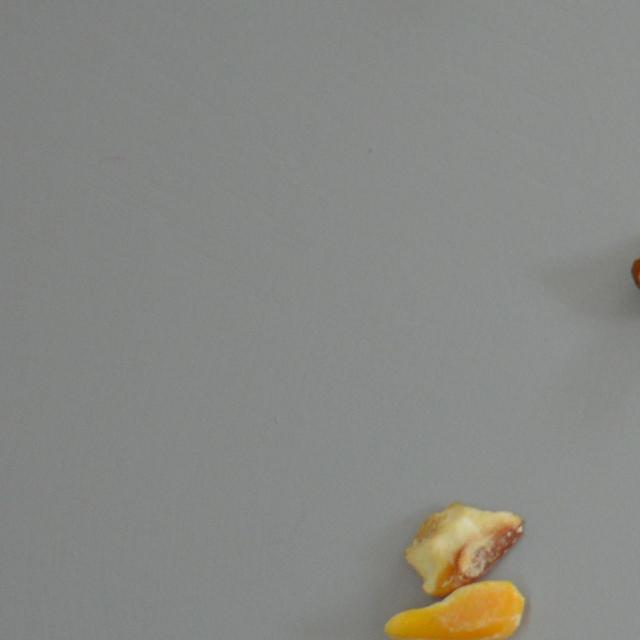dañado: (403, 502, 522, 596), (627, 230, 640, 316)
pelicula: (378, 576, 526, 640)
